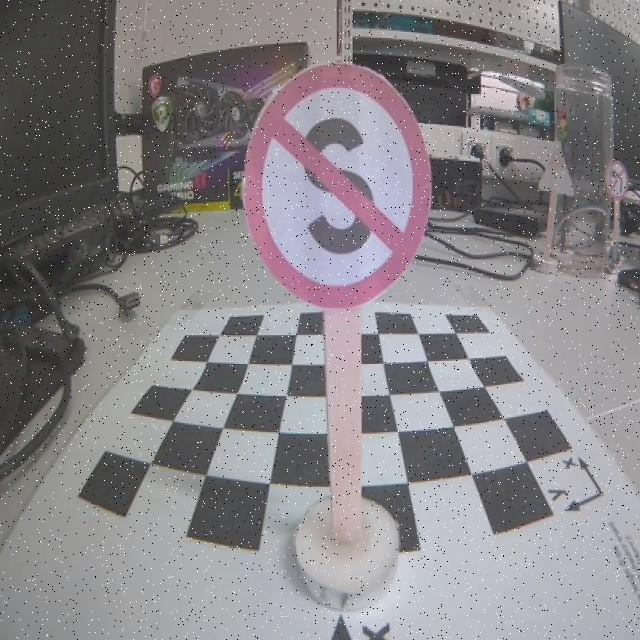Rambu Berhenti: (242, 63, 429, 310)
